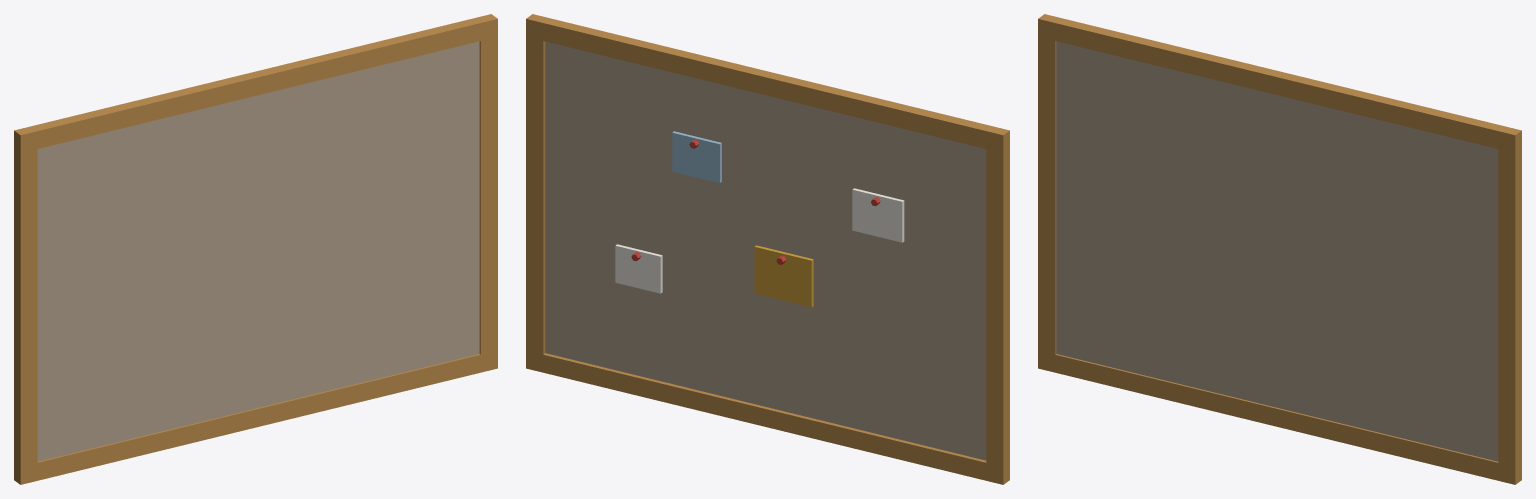
The model's file is SM_LPI_Office_Pinboard_01.fbx.
3 renders of one model, left to right at view 1: azimuth 30°, elevation 25°; view 2: azimuth 150°, elevation 25°; view 3: azimuth 330°, elevation 25°, orthographic.
Visible parts, largest first — view 1: SM_LPI_Office_Pinboard_01; view 2: SM_LPI_Office_Pinboard_01; view 3: SM_LPI_Office_Pinboard_01.
Boxes of the visible parts, x1,y1,x2,y2 form: SM_LPI_Office_Pinboard_01: (14,14,497,484); SM_LPI_Office_Pinboard_01: (526,14,1009,484); SM_LPI_Office_Pinboard_01: (1038,14,1521,484).
Bounding box in the file's own units: 1 × 0.7 × 0.035.
